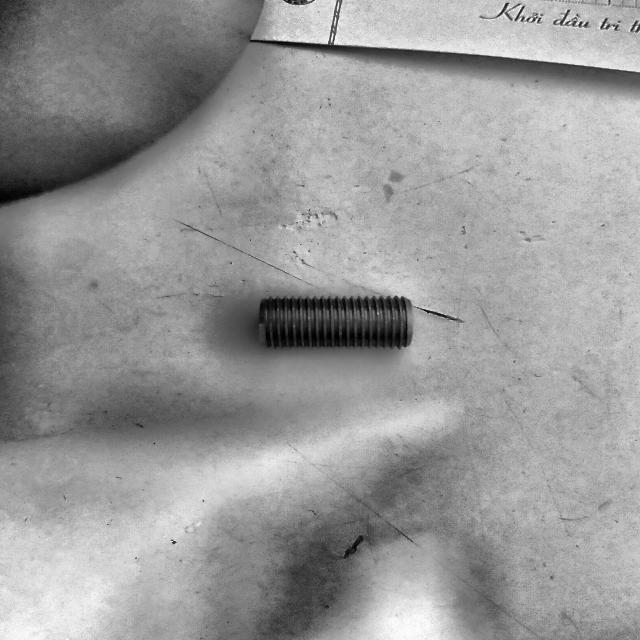Normal: (258, 294, 415, 354)
